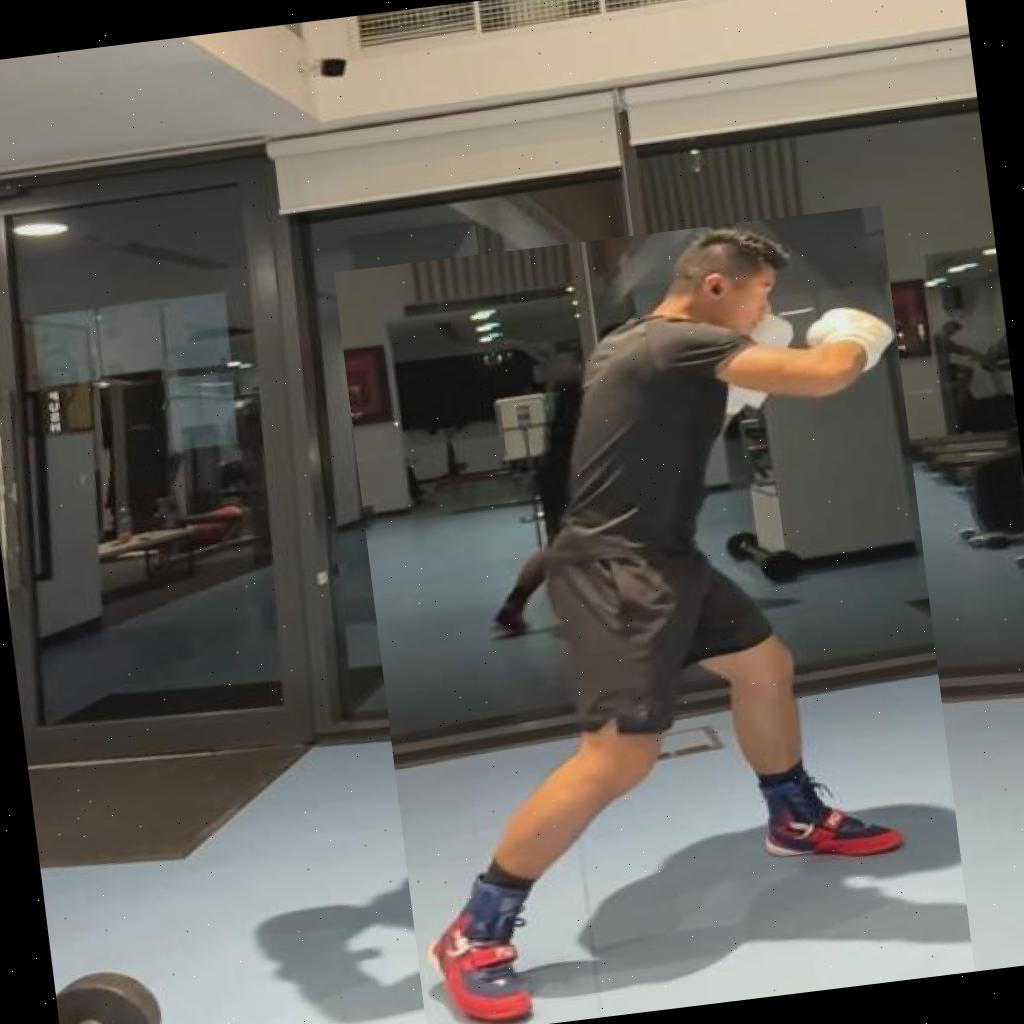hook: (333, 205, 974, 1024)
